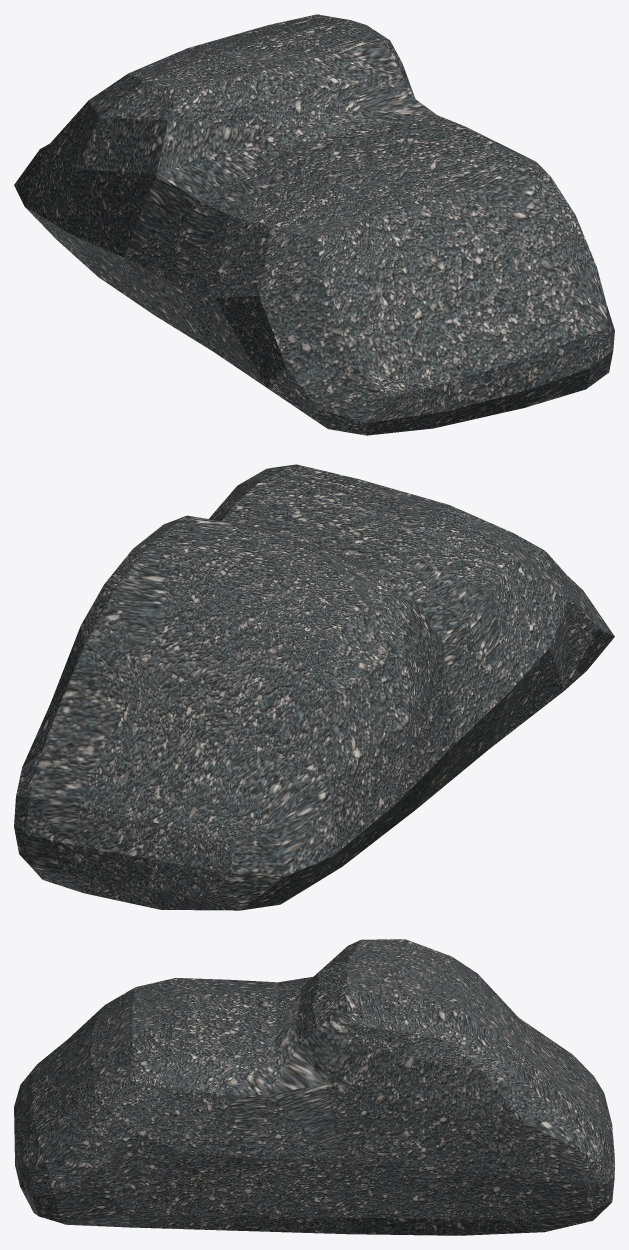
The model's file is rock1.glb.
3 renders of one model, top to bottom at view 1: azimuth 30°, elevation 25°; view 2: azimuth 150°, elevation 25°; view 3: azimuth 270°, elevation 25°, orthographic. The views are drawn at different scales.
Parts seen in each view (by area): view 1: rock1; view 2: rock1; view 3: rock1.
Boxes of the visible parts, x1=… form: rock1: x1=14, y1=14, x2=614, y2=435; rock1: x1=14, y1=464, x2=614, y2=910; rock1: x1=14, y1=939, x2=614, y2=1235.
Size of the model in its own units: 9.75 by 7.48 by 17.92.
Materials: 1 (1 with a texture image).
